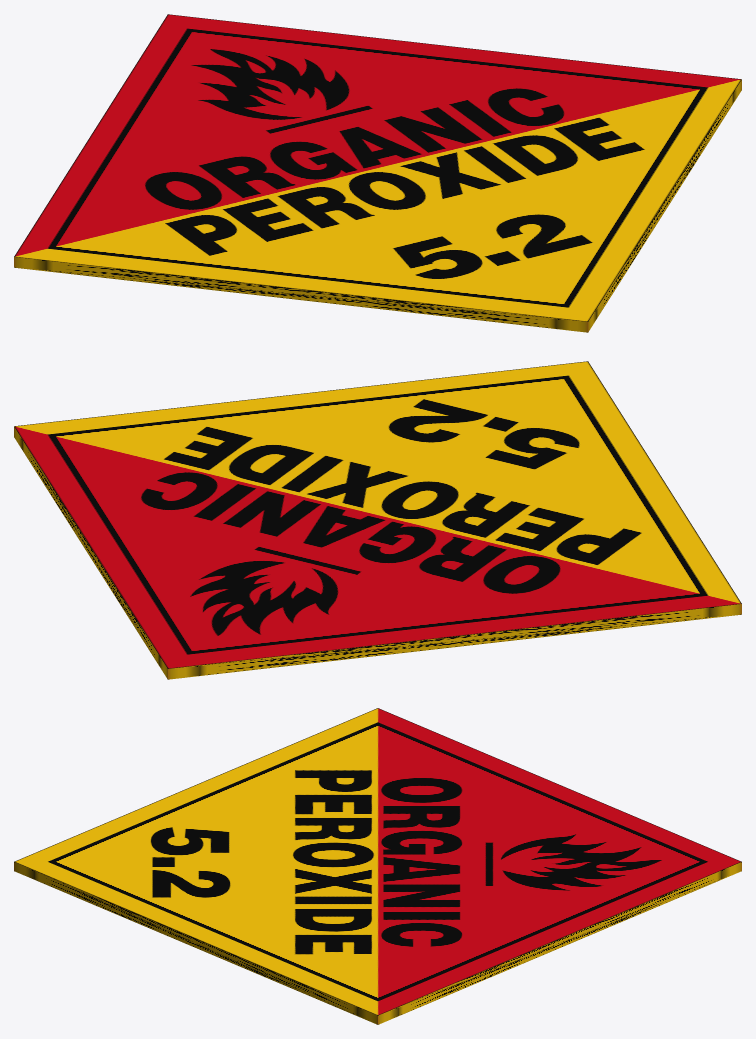
The model's file is hazmat_organic-peroxide.dae.
The picture shows the model from 3 angles, top to bottom: view 1: azimuth 30°, elevation 25°; view 2: azimuth 150°, elevation 25°; view 3: azimuth 270°, elevation 25°; orthographic projection. The views are drawn at different scales.
Visible parts, largest first — view 1: Sign_Material.014; view 2: Sign_Material.014; view 3: Sign_Material.014.
Part boxes in pixels (left/top/right/bottom): Sign_Material.014: left=14, top=14, right=741, bottom=332; Sign_Material.014: left=14, top=361, right=741, bottom=679; Sign_Material.014: left=14, top=708, right=741, bottom=1024.
Size of the model in its own units: 0.1414 by 0.1414 by 0.002.
1 material, 1 textured.
